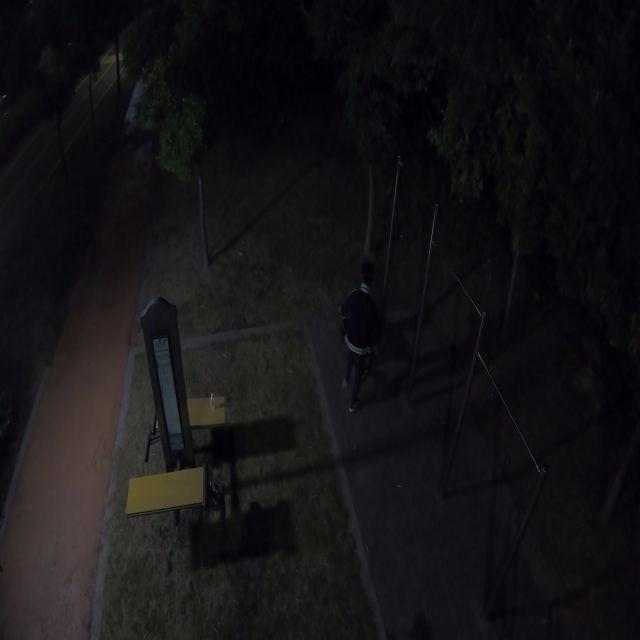fight: (332, 263, 382, 415)
